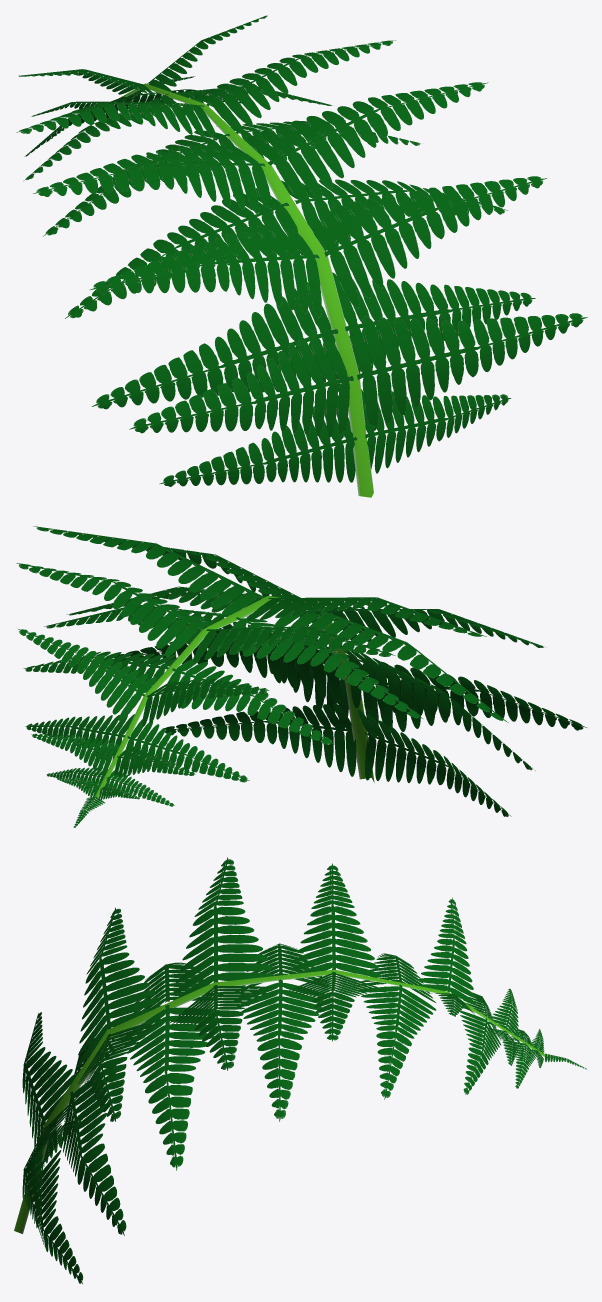
Rendered from fern.fbx.
3 renders of one model, top to bottom at view 1: azimuth 30°, elevation 25°; view 2: azimuth 150°, elevation 25°; view 3: azimuth 270°, elevation 25°, orthographic. The views are drawn at different scales.
Visible parts, largest first — view 1: fern; view 2: fern; view 3: fern.
Part boxes in pixels (x1,y1,x2,y2): fern: (16, 15, 587, 497); fern: (16, 526, 587, 827); fern: (14, 857, 587, 1283).
Size of the model in its own units: 171 by 105 by 193.
1 material, 1 textured.
